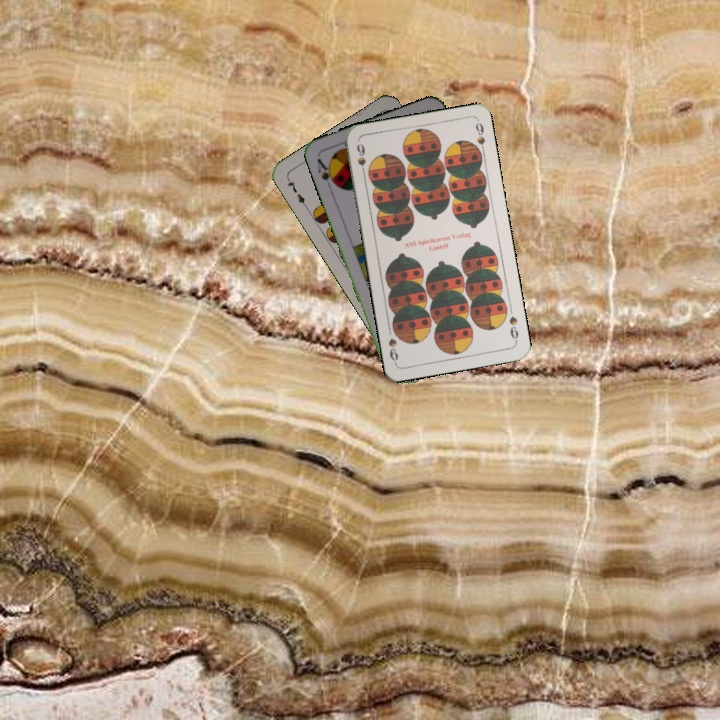E7: (283, 174, 309, 210)
S9: (352, 140, 368, 179), (505, 312, 521, 344)
SA: (313, 154, 340, 192)
